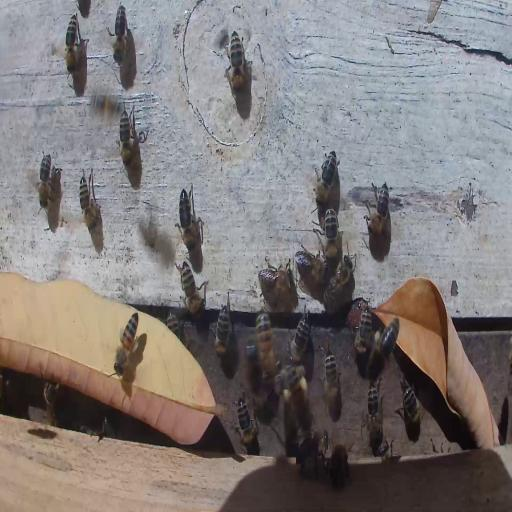bee: (364, 310, 401, 376), (112, 307, 141, 377), (322, 253, 353, 313), (282, 363, 310, 425), (294, 246, 331, 292), (312, 148, 339, 208), (254, 309, 276, 382), (177, 260, 205, 316), (293, 430, 332, 470), (176, 186, 200, 250), (365, 180, 391, 236), (236, 390, 258, 456), (399, 378, 423, 433), (326, 440, 351, 492), (322, 349, 342, 412), (79, 170, 98, 236), (351, 302, 373, 359), (258, 258, 291, 295), (366, 377, 382, 447), (228, 30, 245, 94), (320, 206, 339, 262), (110, 3, 127, 65), (213, 302, 231, 360), (288, 313, 310, 359), (118, 108, 133, 170), (38, 150, 52, 212), (91, 92, 122, 118), (65, 13, 78, 75), (44, 378, 61, 414), (375, 440, 391, 458)
